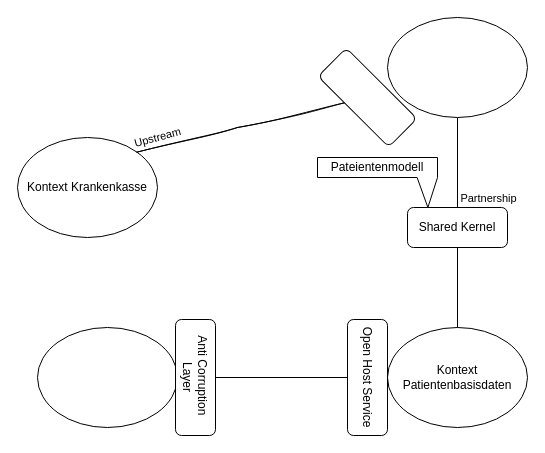
Some shapes in this 545 by 453 pixel diagram are drawn without their labels. The shapes that lost their labels are listed below. From the top down, each one's centre as x and y in pixels, then its label:
At point (457, 67): "Kontext Systemintegration".
At point (367, 97): "Conformist".
At point (107, 377): "Kontext Telesystem".
